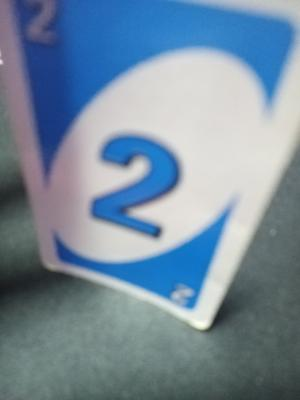blue: (19, 8, 236, 309)
